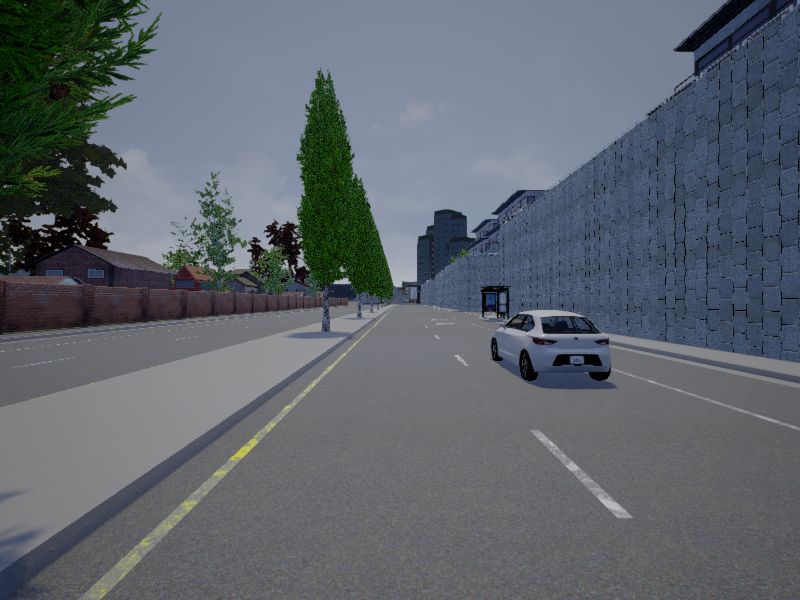Benign: (491, 311, 614, 383)
